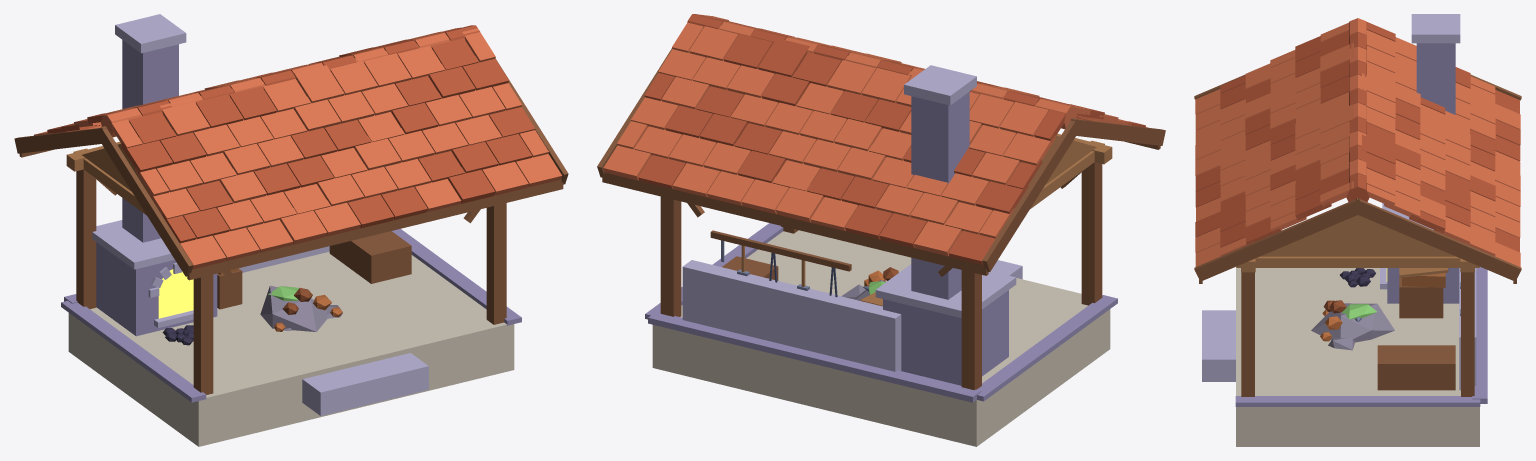
The model's file is forge.glb.
The picture shows the model from 3 angles, left to right: view 1: azimuth 30°, elevation 25°; view 2: azimuth 150°, elevation 25°; view 3: azimuth 270°, elevation 25°; orthographic projection. The views are drawn at different scales.
Visible parts, largest first — view 1: Smithy, OreRock, Ore; view 2: Smithy; view 3: Smithy, OreRock, Ore.
Boxes of the visible parts, x1,y1,x2,y2 form: Smithy: (14, 14, 568, 446); OreRock: (260, 285, 342, 331); Ore: (274, 288, 342, 331); Smithy: (597, 14, 1165, 446); Smithy: (1194, 14, 1521, 446); OreRock: (1311, 303, 1394, 350); Ore: (1320, 300, 1346, 341).
Bounding box in the file's own units: 8.42 × 6.9 × 6.71.
